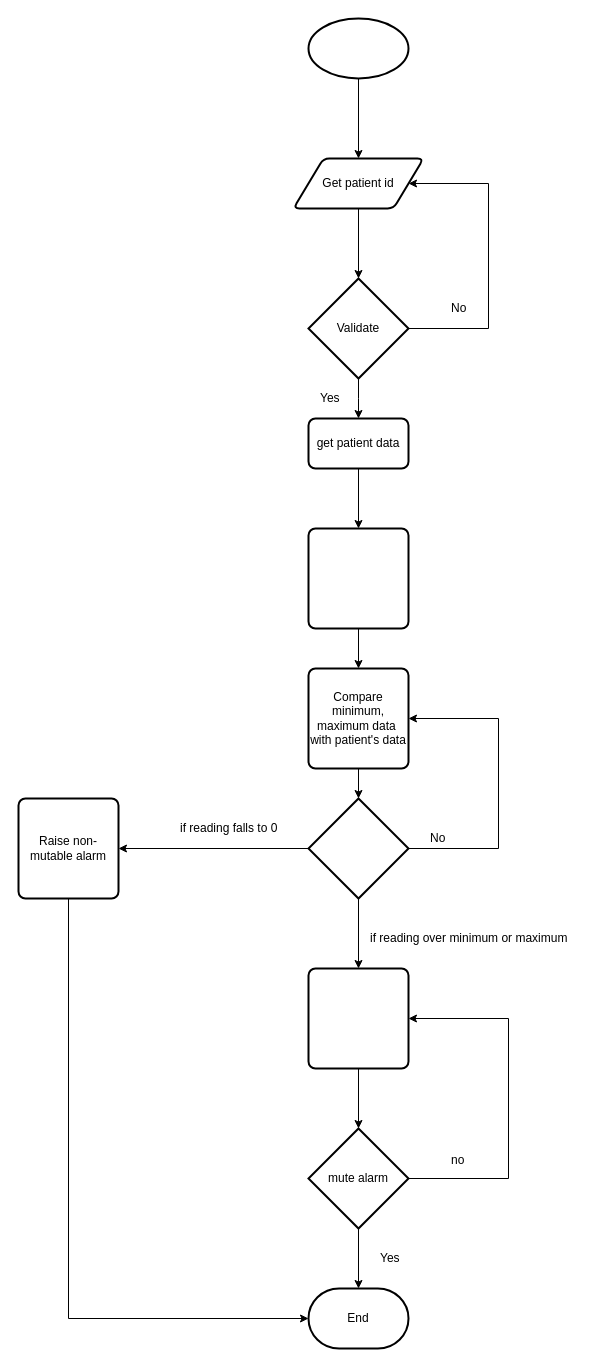
Image size: 595x1366. Some labels were removed from this diagram. Here are the shapes that lost their labels. From the top down, the centre of each, then its label:
At (358,48): "Start".
At (358,578): "Set minimum, maximum data, alarm level for alarm.".
At (358,1018): "Raise mutable alarm".
